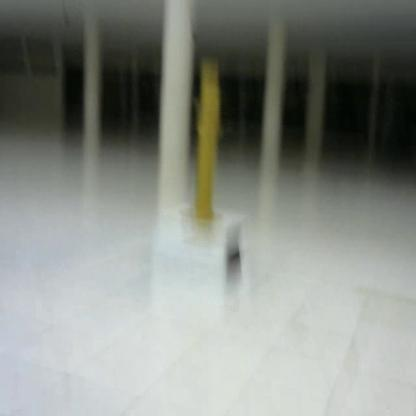pole: (178, 57, 229, 222)
